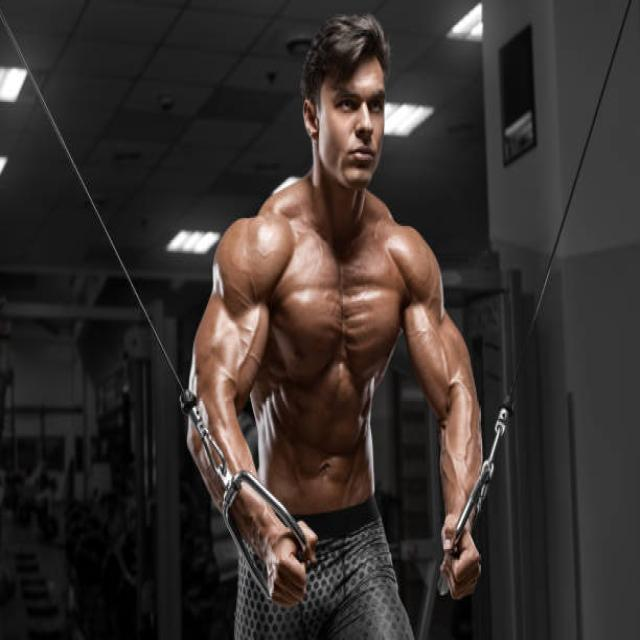no_helmet: (300, 111, 405, 201)
